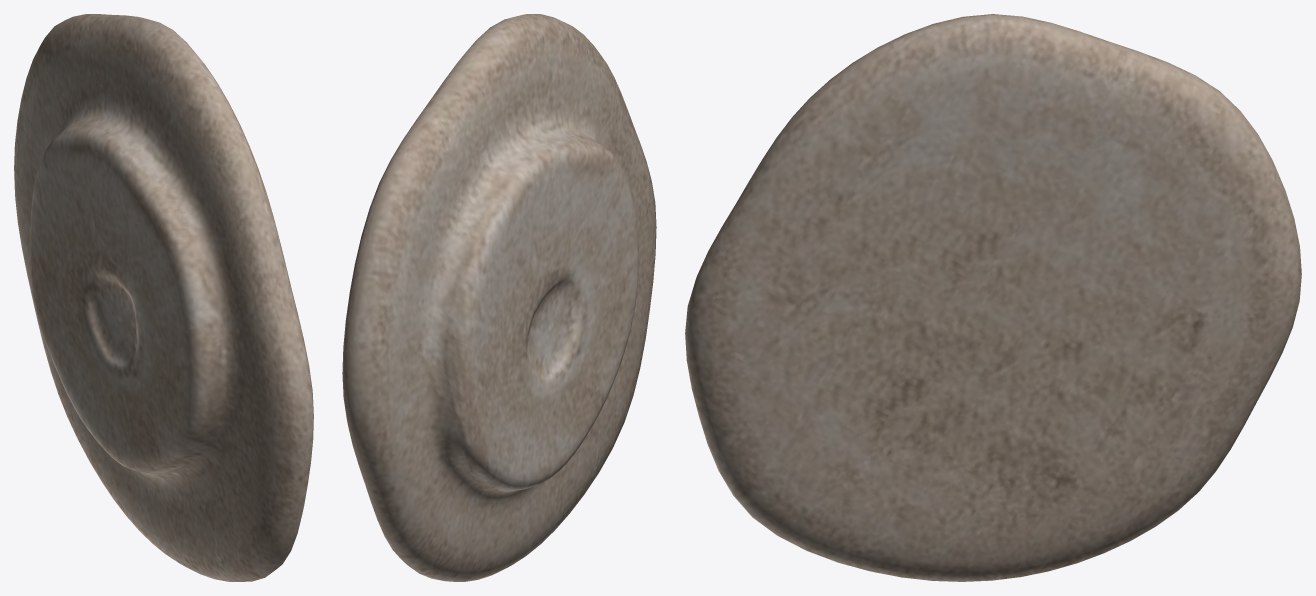
Rendered from KiwiFruitPeduncle.obj.
3 renders of one model, left to right at view 1: azimuth 30°, elevation 25°; view 2: azimuth 150°, elevation 25°; view 3: azimuth 270°, elevation 25°, orthographic. The views are drawn at different scales.
Visible parts, largest first — view 1: KiwiFruitPeduncle; view 2: KiwiFruitPeduncle; view 3: KiwiFruitPeduncle.
Boxes of the visible parts, box(x1,y1,x2,y2) form: KiwiFruitPeduncle: box(14, 14, 313, 581); KiwiFruitPeduncle: box(342, 14, 656, 581); KiwiFruitPeduncle: box(685, 14, 1301, 581).
Bounding box in the file's own units: 0.00175 × 0.0119 × 0.0117.
1 material, 1 textured.
